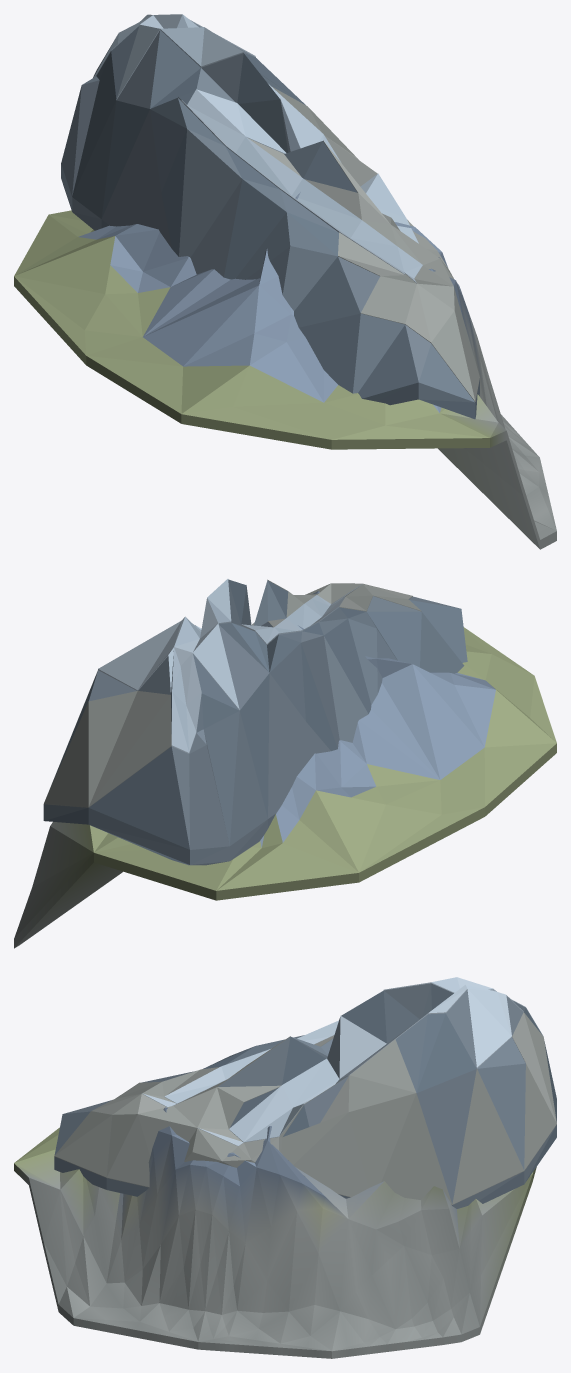
File: massif_cirque_wall_cirque54.glb
3 renders of one model, top to bottom at view 1: azimuth 30°, elevation 25°; view 2: azimuth 150°, elevation 25°; view 3: azimuth 270°, elevation 25°, orthographic. The views are drawn at different scales.
Visible parts, largest first — view 1: rock_body, upper_cirque_mass, lower_rock_shoulders, snow_gully_b, snow_gully_a, shore_rock_apron, snow_field_north, snow_field_saddle; view 2: rock_body, upper_cirque_mass, lower_rock_shoulders, snow_field_north, shore_rock_apron, snow_gully_b, snow_back_basin, snow_gully_a; view 3: rock_body, shore_rock_apron, upper_cirque_mass, lower_rock_shoulders, snow_gully_a, snow_field_north, snow_gully_b.
Part boxes in pixels (left/top/right/bottom): rock_body: left=14, top=192, right=556, bottom=549; upper_cirque_mass: left=61, top=23, right=479, bottom=419; lower_rock_shoulders: left=248, top=86, right=454, bottom=342; snow_gully_b: left=178, top=89, right=422, bottom=283; snow_gully_a: left=160, top=14, right=440, bottom=258; shore_rock_apron: left=255, top=57, right=479, bottom=401; snow_field_north: left=111, top=14, right=255, bottom=99; snow_field_saddle: left=197, top=89, right=286, bottom=153; rock_body: left=14, top=591, right=556, bottom=948; upper_cirque_mass: left=43, top=579, right=467, bottom=865; lower_rock_shoulders: left=88, top=579, right=421, bottom=807; snow_field_north: left=98, top=617, right=239, bottom=709; shore_rock_apron: left=44, top=670, right=97, bottom=807; snow_gully_b: left=255, top=584, right=362, bottom=644; snow_back_basin: left=171, top=647, right=201, bottom=753; snow_gully_a: left=186, top=579, right=254, bottom=638; rock_body: left=14, top=1107, right=536, bottom=1358; shore_rock_apron: left=54, top=1064, right=556, bottom=1204; upper_cirque_mass: left=54, top=983, right=556, bottom=1208; lower_rock_shoulders: left=92, top=1012, right=556, bottom=1141; snow_gully_a: left=197, top=977, right=459, bottom=1146; snow_field_north: left=428, top=977, right=525, bottom=1068; snow_gully_b: left=142, top=1020, right=338, bottom=1106.
Size of the model in its own units: 454 by 399 by 664.
